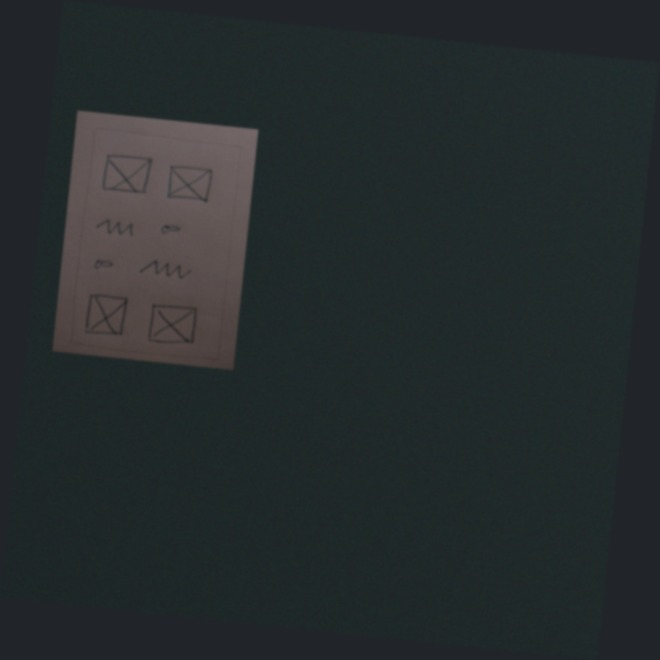image: (143, 299, 201, 349), (98, 149, 157, 198), (163, 160, 217, 207), (81, 291, 131, 341)
switch: (153, 220, 187, 240), (88, 256, 122, 275)
text: (136, 255, 197, 285), (91, 214, 139, 243)
